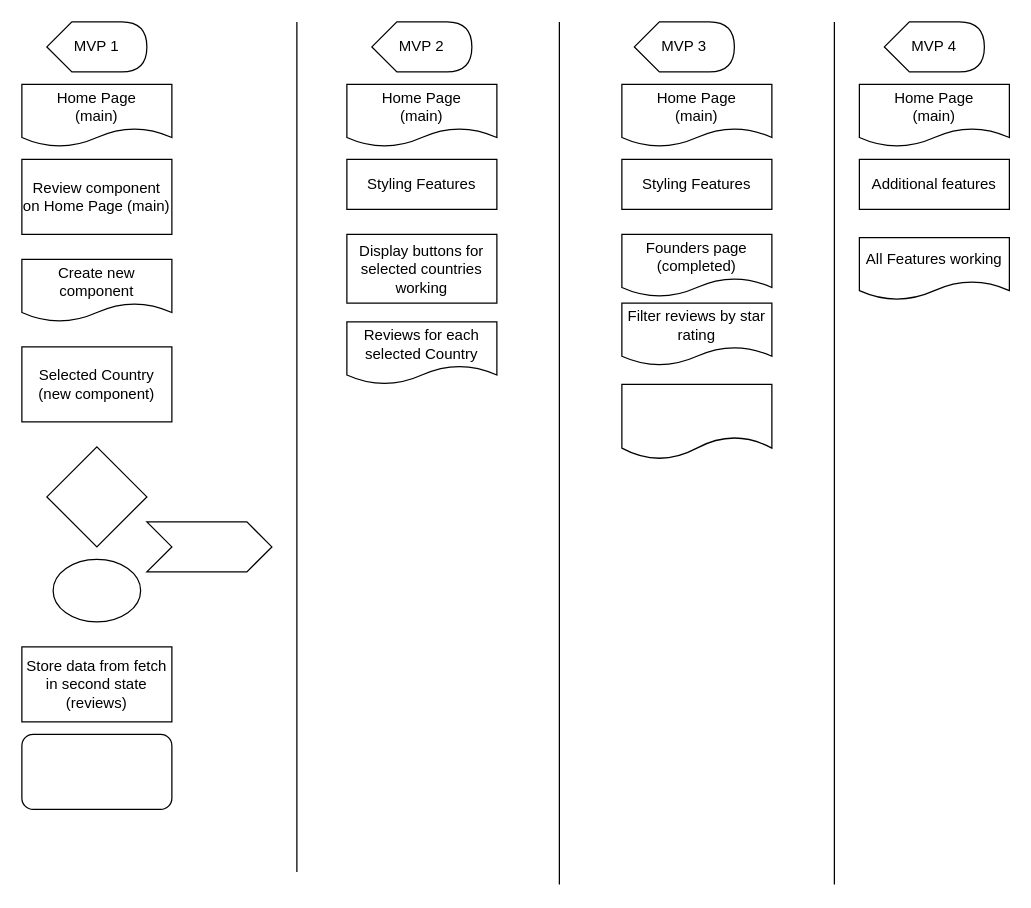
This 1031x908 diagram has some shape labels left out. Each missing label, with the centre of its shape:
"A page with 2 /3 country listed with cmparisons" belongs at point (696, 421).
"Configure a Button that changes the state of Selected Country" belongs at point (96, 771).
"Error Checking" belongs at point (209, 546).
"Run fetch API request" belongs at point (96, 590).
"Selected Country - change" belongs at point (96, 496).
